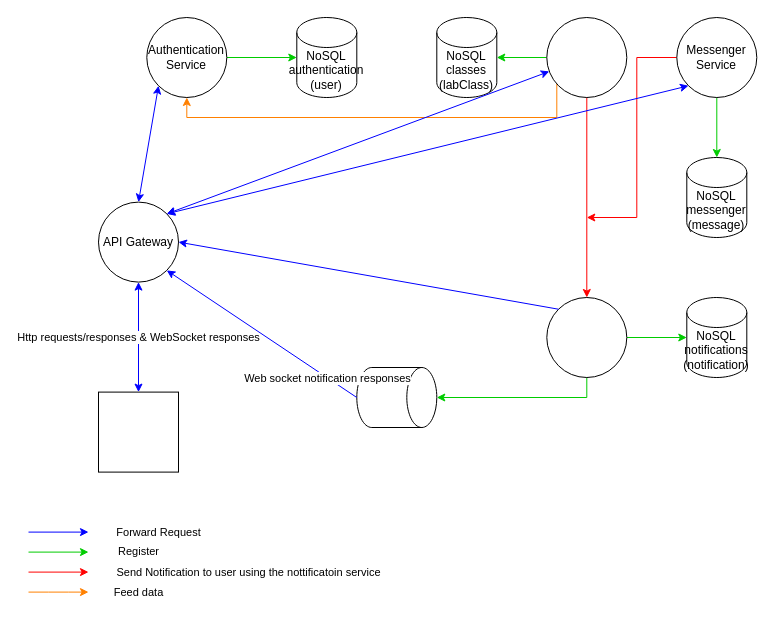
The diagram is 775 pixels wide and 618 high, and some of its shapes have lost their labels. Here are the shapes that lost their labels. From the top down, the centre of each, then its label:
At pixel 586 57: "Classes Service".
At pixel 586 337: "Notification Service".
At pixel 396 397: "RabbitMQ".
At pixel 138 431: "Web Application".
